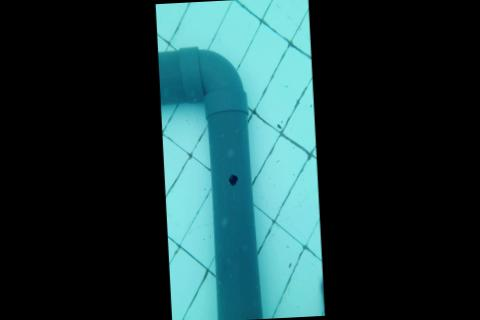kebocoran: (227, 171, 240, 188)
